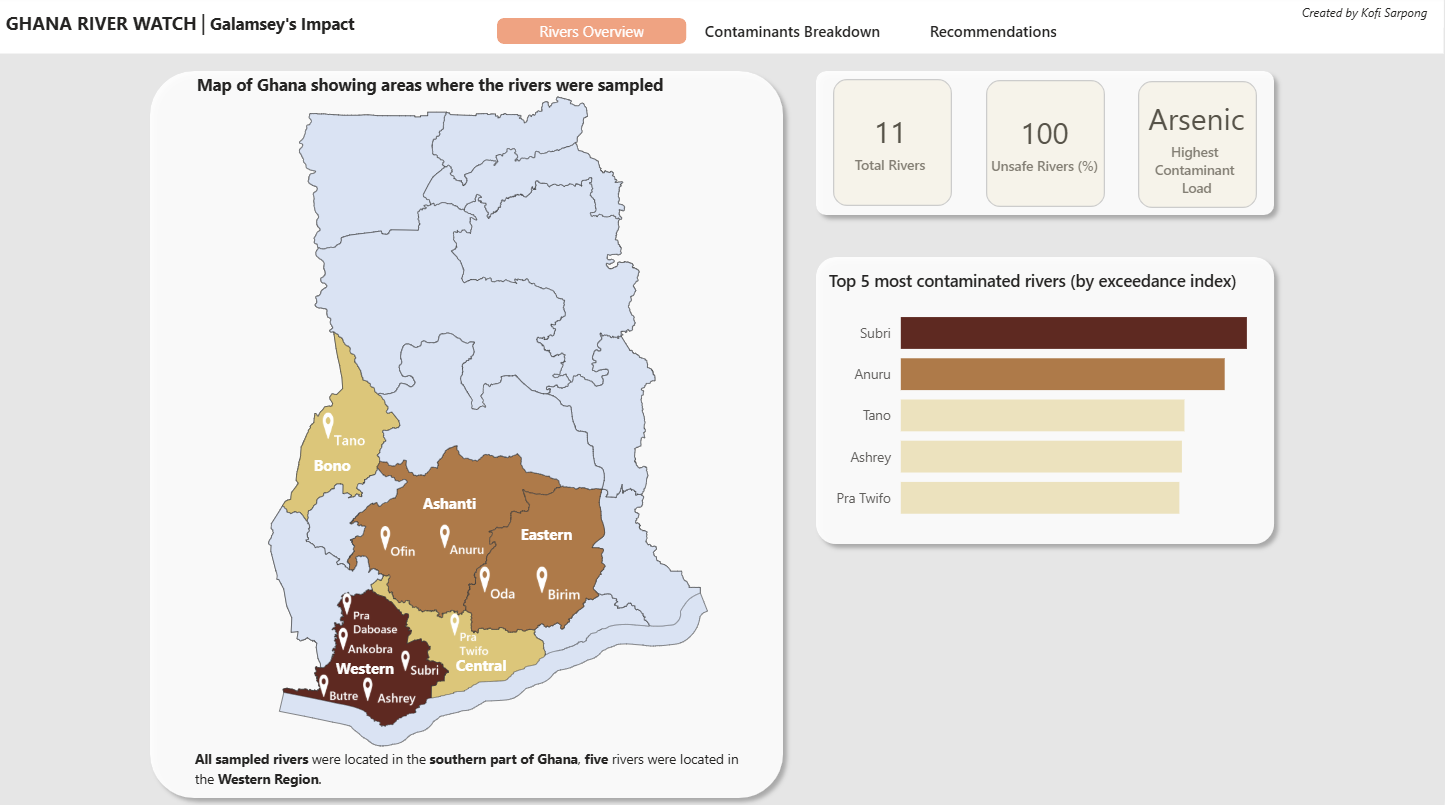

Layout of this report page (visuals, bound fields, positions):
{"tool":"powerbi","page":{"name":"Rivers Overview","canvas":[1280,720],"ordinal":0},"visuals":[{"type":"shape","box":[124.1,57.6,579,662.4],"z":0},{"type":"shape","box":[714.7,222.6,423.8,272.2],"z":1000},{"type":"clusteredBarChart","title":"Top 5 most contaminated rivers (by exceedance index)","fields":{"Category":["RiverData.Sample"],"Y":["All measures.Total Exceedance Index"]},"box":[729.8,242.1,395.5,237.6],"z":2000},{"type":"shapeMap","fields":{"Category":["RiverLocation.Region"]},"box":[124.1,57.6,617.1,639.3],"z":3000},{"type":"shape","box":[0,0,1280.4,51.4],"z":4000},{"type":"textbox","box":[1148.8,0,131.2,28.4],"z":5000},{"type":"textbox","box":[0,5.3,349.4,52.3],"z":6000},{"type":"shape","box":[714.7,57.6,423.8,145.4],"z":7000},{"type":"card","fields":{"Values":["All measures.Total Rivers"]},"box":[734.1,70.9,110,115.3],"z":8000},{"type":"card","fields":{"Values":["All measures.Highest Contaminant Load"]},"box":[1005.5,36.4,110.8,162.3],"z":9000},{"type":"card","fields":{"Values":["All measures.Unsafe Rivers (%)"]},"box":[871.6,70.9,109.1,117.9],"z":10000},{"type":"shape","box":[1008.9,75.4,105.5,112.6],"z":11000},{"type":"shape","box":[738.4,73.6,105.5,112.6],"z":12000},{"type":"shape","box":[874.3,74.5,105.5,112.6],"z":13000},{"type":"textbox","box":[169.4,63,443.3,39.9],"z":14000},{"type":"textbox","box":[167.6,662.4,498.3,47.9],"z":15000},{"type":"image","box":[298.8,520.5,77.1,61.2],"z":16000,"group":"g1"},{"type":"image","box":[337.8,575.5,90.4,39.9],"z":16000},{"type":"image","box":[295.3,554.2,74.5,43.4],"z":17000},{"type":"image","box":[273.1,596.7,78.9,40.8],"z":17000,"group":"g1"},{"type":"pageNavigator","box":[440.7,19.5,524.9,23.9],"z":18000},{"type":"group","id":"g1","title":"Group 1","box":[273.1,364.4,276.7,275.8],"z":19000},{"type":"image","box":[313,599.4,83.3,40.8],"z":19000,"group":"g1"},{"type":"image","box":[332.5,461.9,72.7,52.3],"z":21000,"group":"g1"},{"type":"image","box":[382.2,463.7,77.1,45.2],"z":22000,"group":"g1"},{"type":"image","box":[470.8,501,78.9,48.8],"z":23000,"group":"g1"},{"type":"image","box":[419.4,501,78.9,47.9],"z":24000,"group":"g1"},{"type":"image","box":[372.4,542.6,110.8,55],"z":25000,"group":"g1"},{"type":"image","box":[280.2,364.4,80.7,48.8],"z":26000,"group":"g1"},{"type":"textbox","box":[369.8,436.2,68.3,39],"z":27000,"group":"g1"},{"type":"textbox","box":[456.6,463.7,68.3,39],"z":28000,"group":"g1"},{"type":"textbox","box":[273.1,402.5,68.3,39],"z":29000,"group":"g1"},{"type":"textbox","box":[292.6,582.5,78,30.1],"z":30000,"group":"g1"},{"type":"textbox","box":[399,579.9,68.3,39],"z":31000,"group":"g1"}]}

Visuals, with their boxes in screenshot pixels (x1, y1, x2, y2), scaled from the page's 1280x720 canvas onto the 1445x805 screenshot:
shape: pyautogui.locateOnScreen(140, 64, 794, 804)
shape: pyautogui.locateOnScreen(807, 249, 1285, 553)
"Top 5 most contaminated rivers (by exceedance index)" clusteredBarChart: pyautogui.locateOnScreen(824, 271, 1270, 536)
shapeMap - RiverLocation.Region: pyautogui.locateOnScreen(140, 64, 837, 779)
shape: pyautogui.locateOnScreen(0, 0, 1444, 57)
textbox: pyautogui.locateOnScreen(1297, 0, 1444, 32)
textbox: pyautogui.locateOnScreen(0, 6, 394, 64)
shape: pyautogui.locateOnScreen(807, 64, 1285, 227)
card - All measures.Total Rivers: pyautogui.locateOnScreen(829, 79, 953, 208)
card - All measures.Highest Contaminant Load: pyautogui.locateOnScreen(1135, 41, 1260, 222)
card - All measures.Unsafe Rivers (%): pyautogui.locateOnScreen(984, 79, 1107, 211)
shape: pyautogui.locateOnScreen(1139, 84, 1258, 210)
shape: pyautogui.locateOnScreen(834, 82, 953, 208)
shape: pyautogui.locateOnScreen(987, 83, 1106, 209)
textbox: pyautogui.locateOnScreen(191, 70, 692, 115)
textbox: pyautogui.locateOnScreen(189, 741, 752, 794)
image: pyautogui.locateOnScreen(337, 582, 424, 650)
image: pyautogui.locateOnScreen(381, 643, 483, 688)
image: pyautogui.locateOnScreen(333, 620, 417, 668)
image: pyautogui.locateOnScreen(308, 667, 397, 713)
pageNavigator: pyautogui.locateOnScreen(498, 22, 1090, 49)
"Group 1" group: pyautogui.locateOnScreen(308, 407, 621, 716)
image: pyautogui.locateOnScreen(353, 670, 447, 716)
image: pyautogui.locateOnScreen(375, 516, 457, 575)
image: pyautogui.locateOnScreen(431, 518, 519, 569)
image: pyautogui.locateOnScreen(531, 560, 621, 615)
image: pyautogui.locateOnScreen(473, 560, 563, 614)
image: pyautogui.locateOnScreen(420, 607, 545, 668)
image: pyautogui.locateOnScreen(316, 407, 407, 462)
textbox: pyautogui.locateOnScreen(417, 488, 495, 531)
textbox: pyautogui.locateOnScreen(515, 518, 593, 562)
textbox: pyautogui.locateOnScreen(308, 450, 385, 494)
textbox: pyautogui.locateOnScreen(330, 651, 418, 685)
textbox: pyautogui.locateOnScreen(450, 648, 528, 692)
